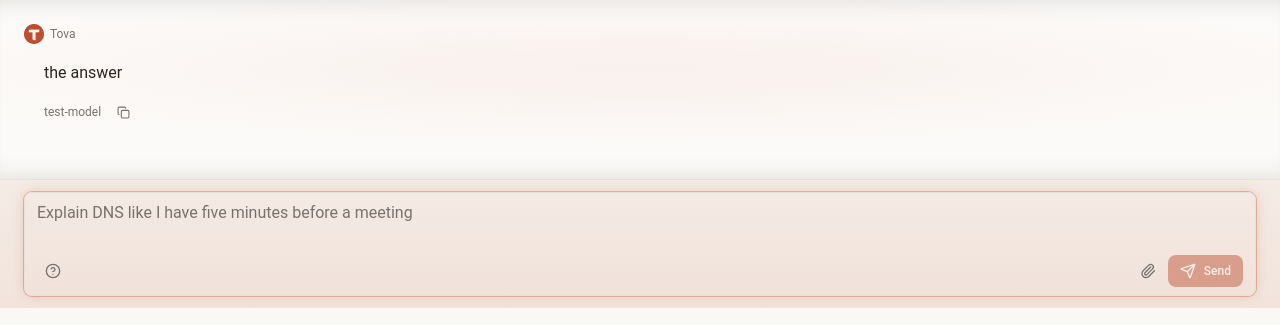
it: ChatWindow copy as Markdown (issue #200) › swaps the Copy icon for Check on success
Expected: the icon with class "lucide-copy" is shown, [117, 106, 130, 119]
Click the button named "Copy message as Markdown".
click(124, 112)  # box [113, 102, 134, 123]
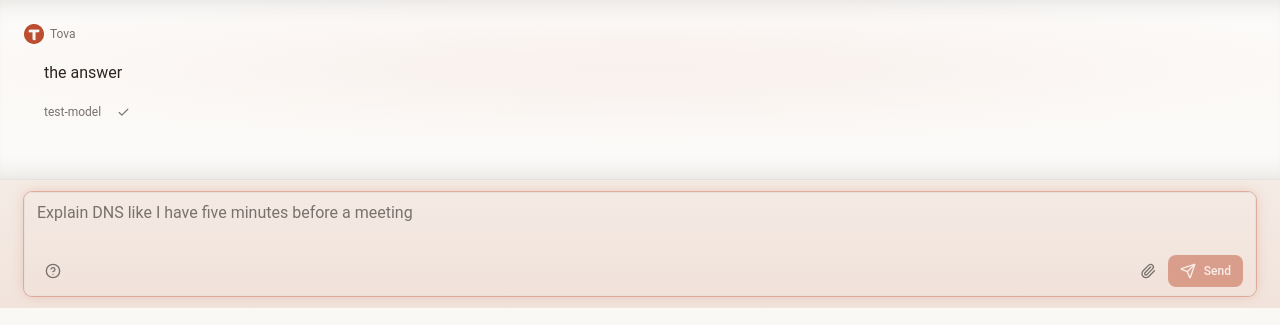
Result: the icon with class "lucide-check" is shown at [117, 106, 130, 119]
